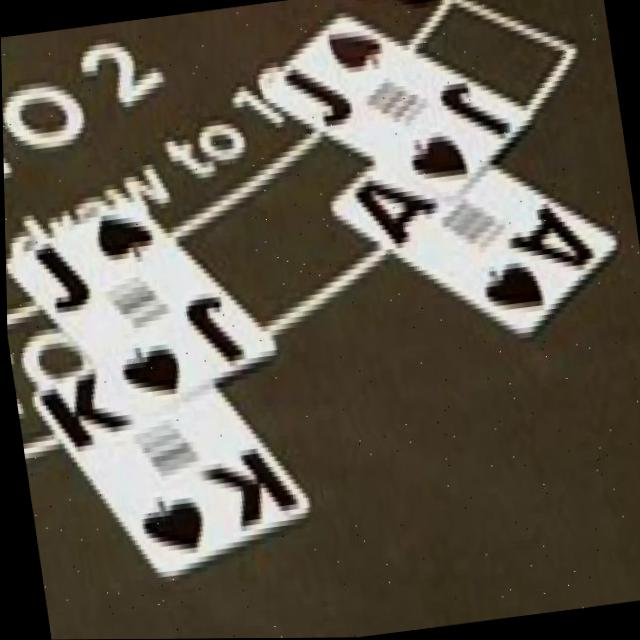Card-A: (330, 163, 618, 334)
Card-J: (5, 198, 274, 420), (263, 9, 531, 200)
Card-K: (31, 358, 309, 579)
